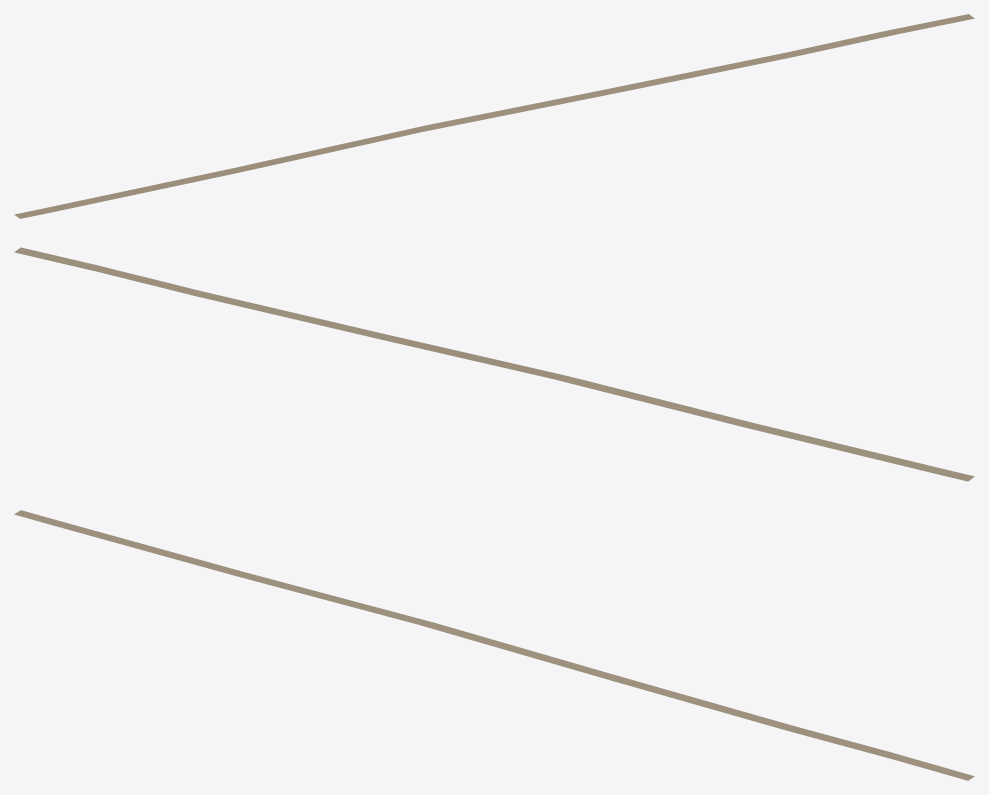
The model's file is farm_5_10_track.glb.
3 renders of one model, top to bottom at view 1: azimuth 30°, elevation 25°; view 2: azimuth 150°, elevation 25°; view 3: azimuth 330°, elevation 25°, orthographic. The views are drawn at different scales.
Parts seen in each view (by area): view 1: geometry_0; view 2: geometry_0; view 3: geometry_0.
Part boxes in pixels (bbox=[...]): geometry_0: bbox=[14, 14, 974, 218]; geometry_0: bbox=[14, 247, 974, 481]; geometry_0: bbox=[14, 510, 974, 780].
Bounding box in the file's own units: 277 × 5.16 × 10.85.
